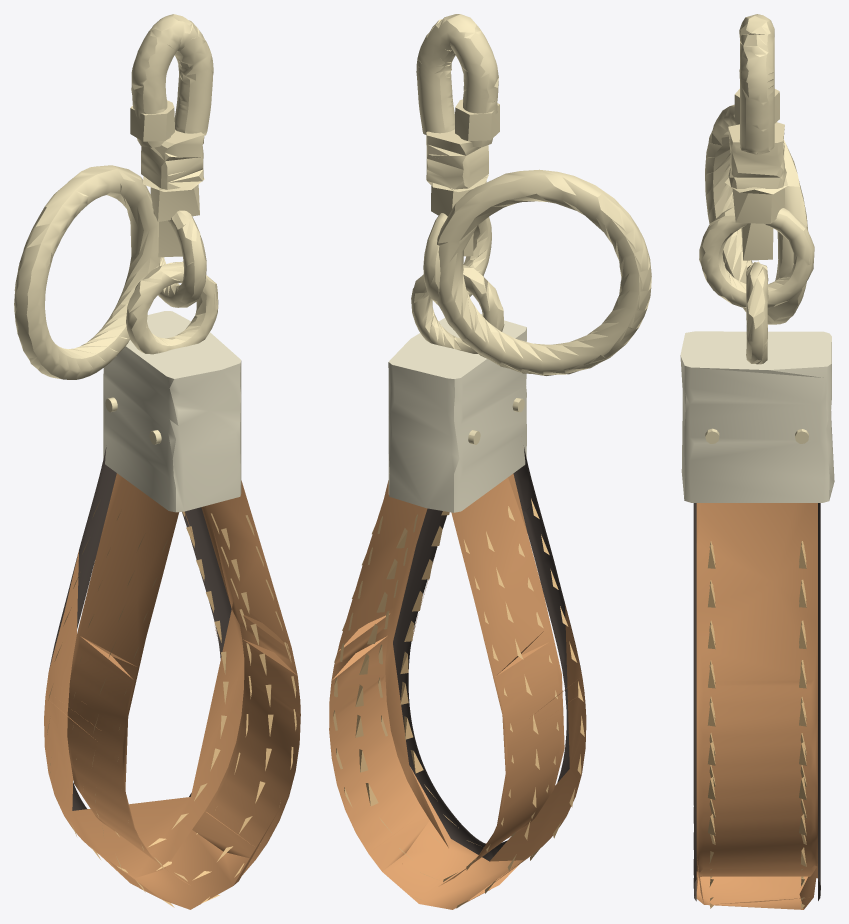
Rendered from original_keyring.glb.
3 views of the same model, side by side, from view 1: azimuth 30°, elevation 25°; view 2: azimuth 150°, elevation 25°; view 3: azimuth 270°, elevation 25° (orthographic).
Parts seen in each view (by area): view 1: leather, collar, split_ring, snap_hook, jump_rings, edge_paint, stitching; view 2: leather, collar, split_ring, snap_hook, edge_paint, stitching, jump_rings; view 3: leather, collar, snap_hook, jump_rings, split_ring, stitching, edge_paint, rivets.
Part boxes in pixels (x1,y1,x2,y2): leather: (44,473,300,909); collar: (103,311,241,512); split_ring: (14,165,160,379); snap_hook: (130,14,213,257); jump_rings: (126,210,218,354); edge_paint: (49,447,231,810); stitching: (47,502,296,907); leather: (329,473,586,909); collar: (388,314,526,512); split_ring: (437,169,651,375); snap_hook: (416,14,499,256); edge_paint: (393,447,581,861); stitching: (333,498,584,908); jump_rings: (411,213,504,353); leather: (696,503,817,909); collar: (680,331,834,502); snap_hook: (725,14,787,260); jump_rings: (699,207,814,364); split_ring: (705,104,807,324); stitching: (707,541,806,908); edge_paint: (693,503,820,901); rivets: (705,428,808,443).
Bounding box in the file's own units: 0.0438 × 0.1316 × 0.0206.
